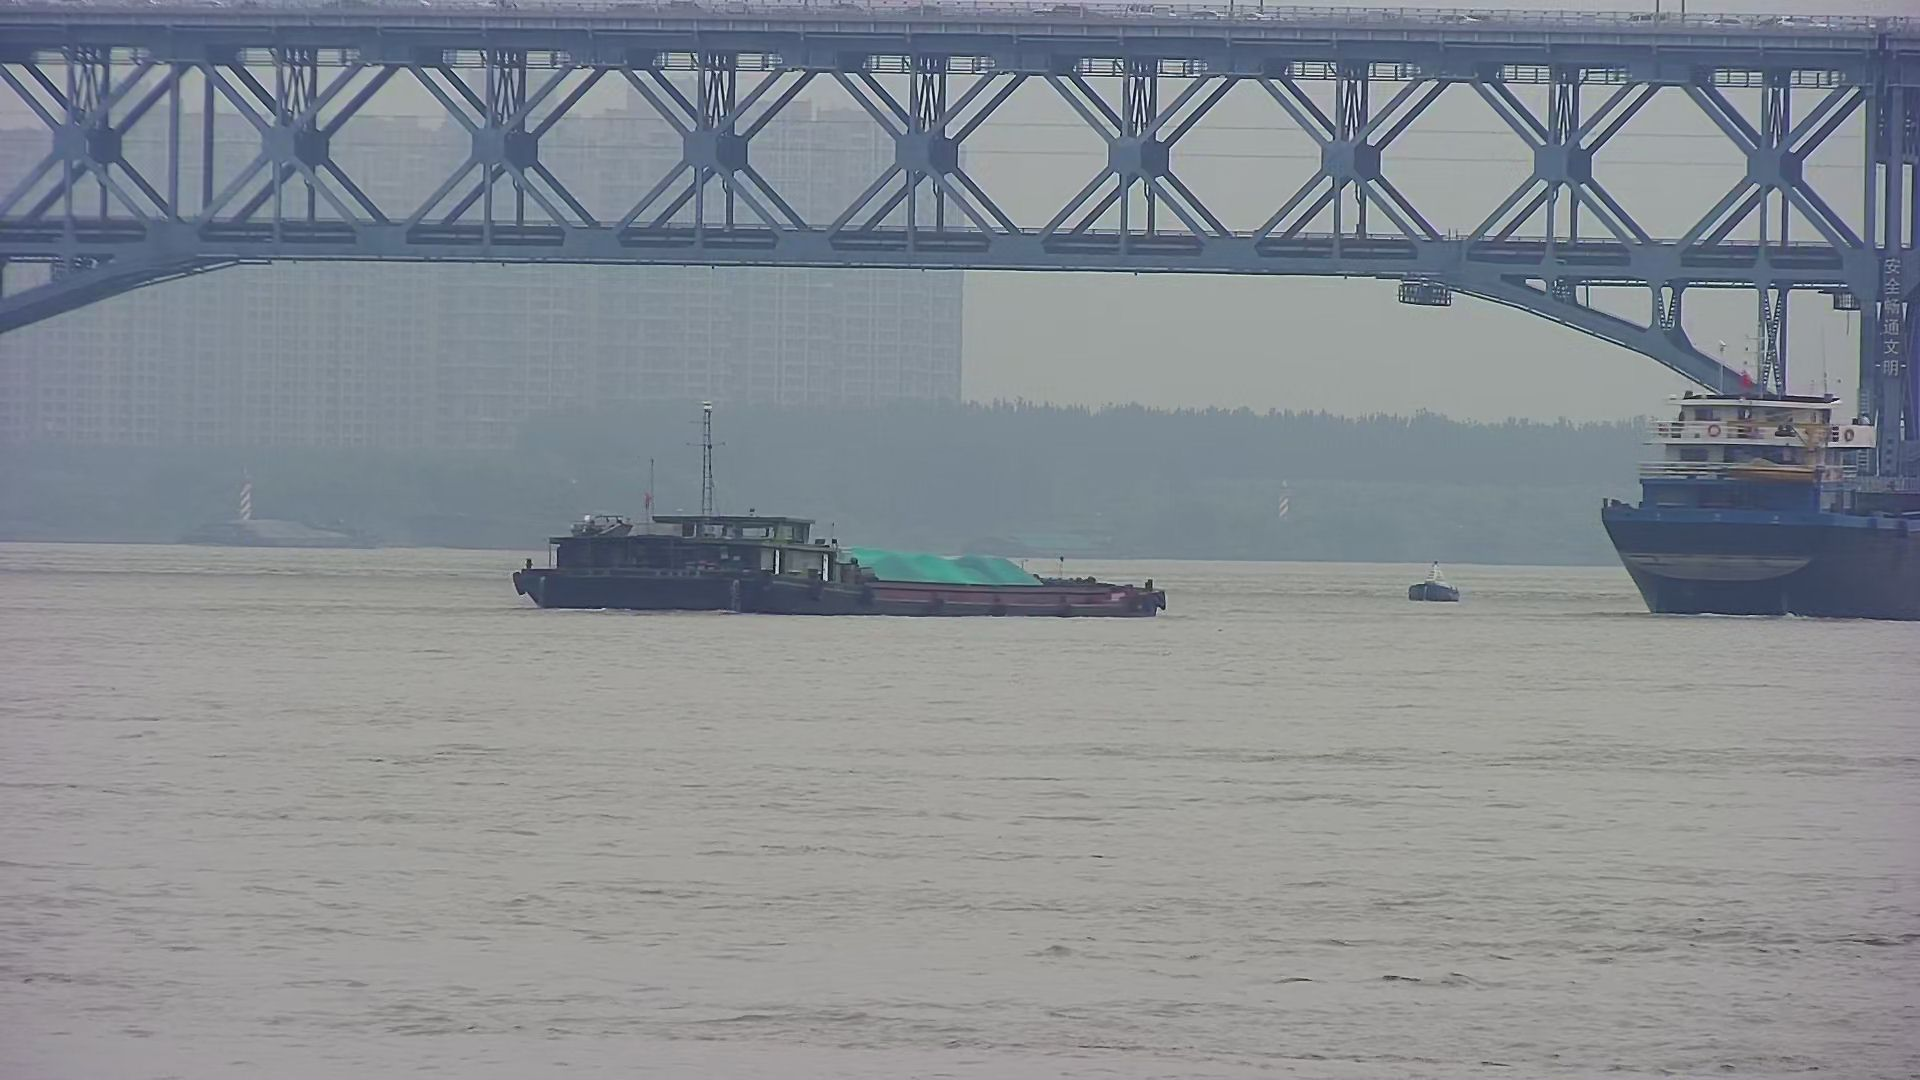boat: (1408, 558, 1465, 607)
bridge: (3, 7, 1904, 384)
ship: (501, 506, 1172, 622), (1596, 388, 1915, 630)
